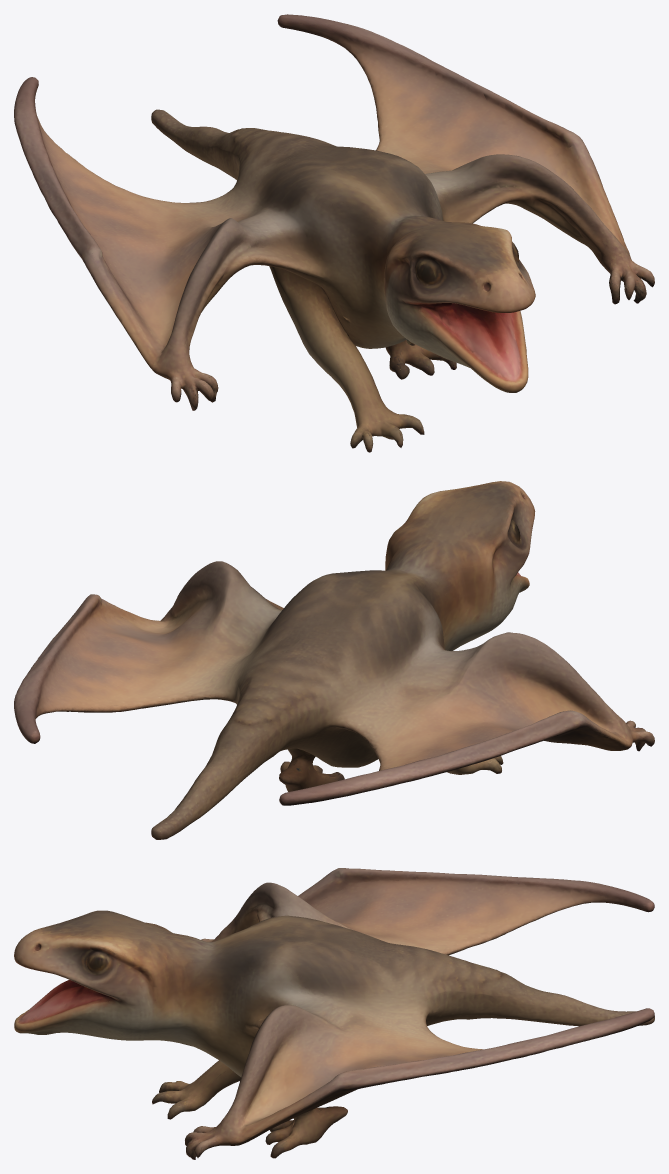
3 views of the same model, one above another, from view 1: azimuth 30°, elevation 25°; view 2: azimuth 150°, elevation 25°; view 3: azimuth 270°, elevation 25° (orthographic). The views are drawn at different scales.
Visible parts, largest first — view 1: world; view 2: world; view 3: world.
Boxes of the visible parts, x1=… form: world: x1=14, y1=14, x2=654, y2=452; world: x1=14, y1=481, x2=654, y2=839; world: x1=14, y1=868, x2=654, y2=1159.
Bounding box in the file's own units: 0.5159 × 0.2212 × 0.65.
1 material, 1 textured.
